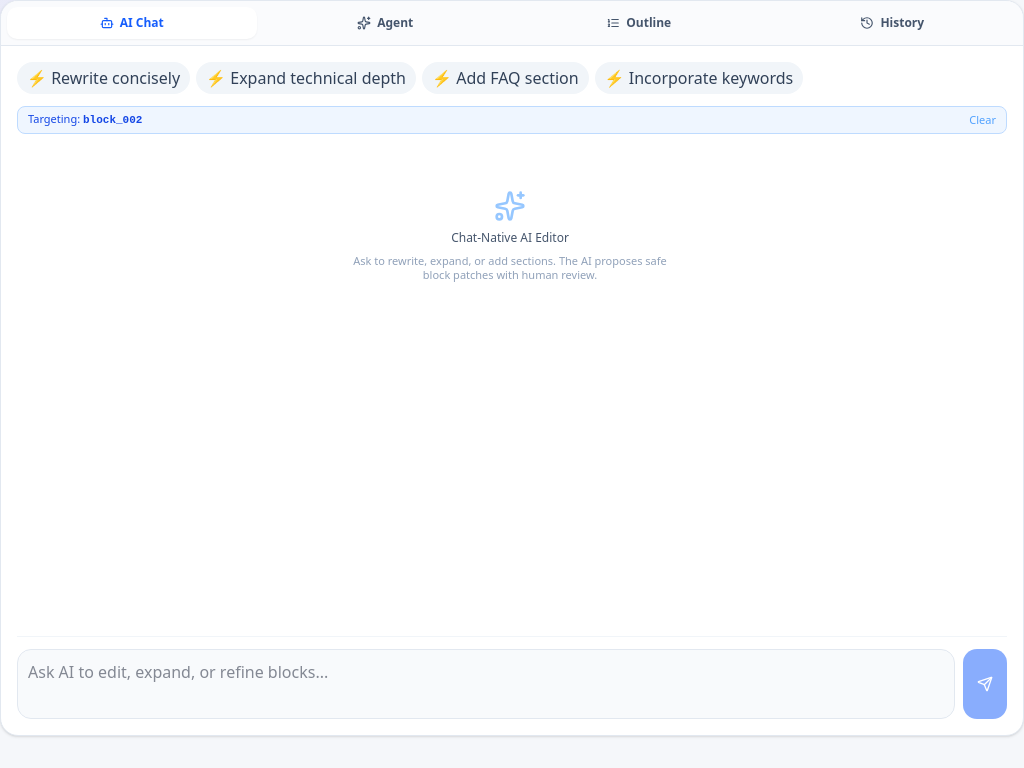
Test: Phase 5: Chat-Native AI Content Editor › renders EditorSidebar and allows submitting AI chat prompts
Expected: the button with test id "tab-chat" is shown, [7, 7, 256, 39]
// Type in chat input and send
Type "Please enhance this block" into the text box with test id "chat-input" at x=486, y=684, box [17, 649, 955, 719]
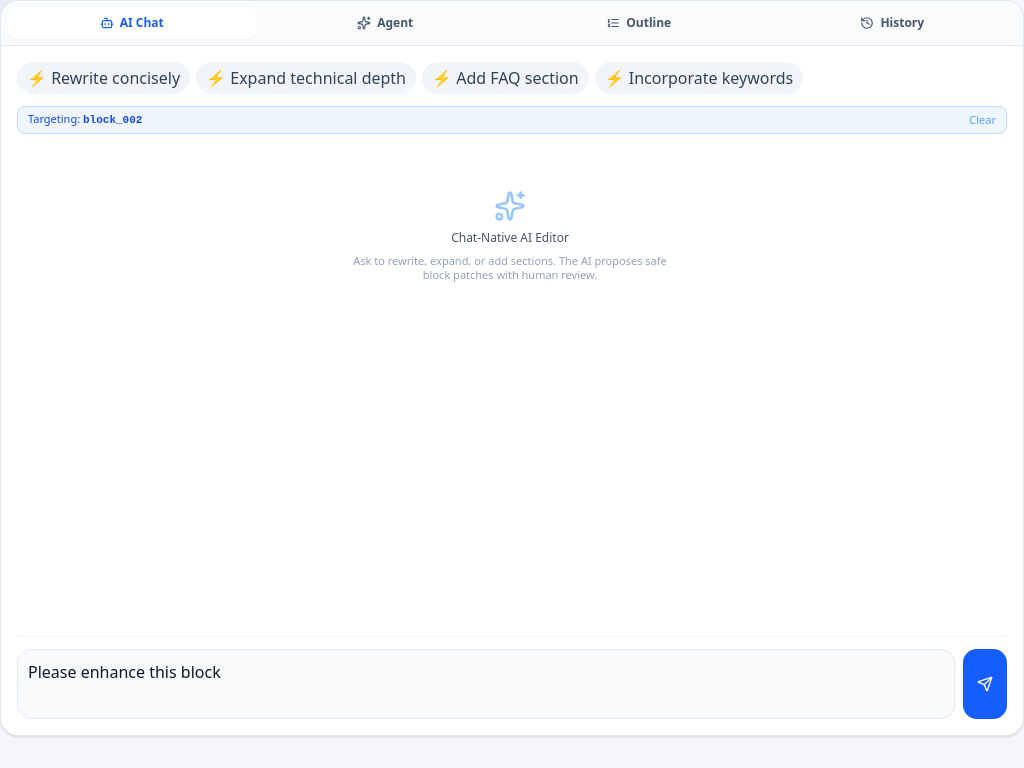
Click the button with test id "send-chat-btn" at x=985, y=684, box [963, 649, 1007, 719]
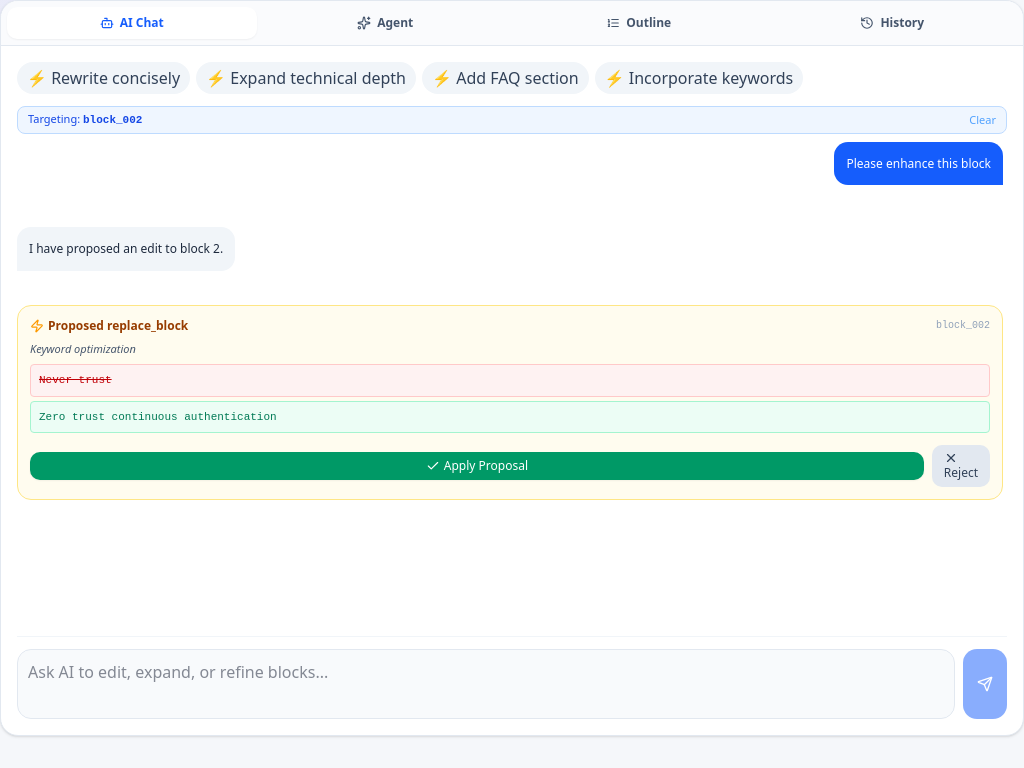
Now the element with test id "proposal-card" is shown, box [17, 304, 1003, 500]
// Apply proposal from sidebar card
Click the button with test id "apply-proposal-btn" at x=477, y=466, box [30, 452, 924, 480]
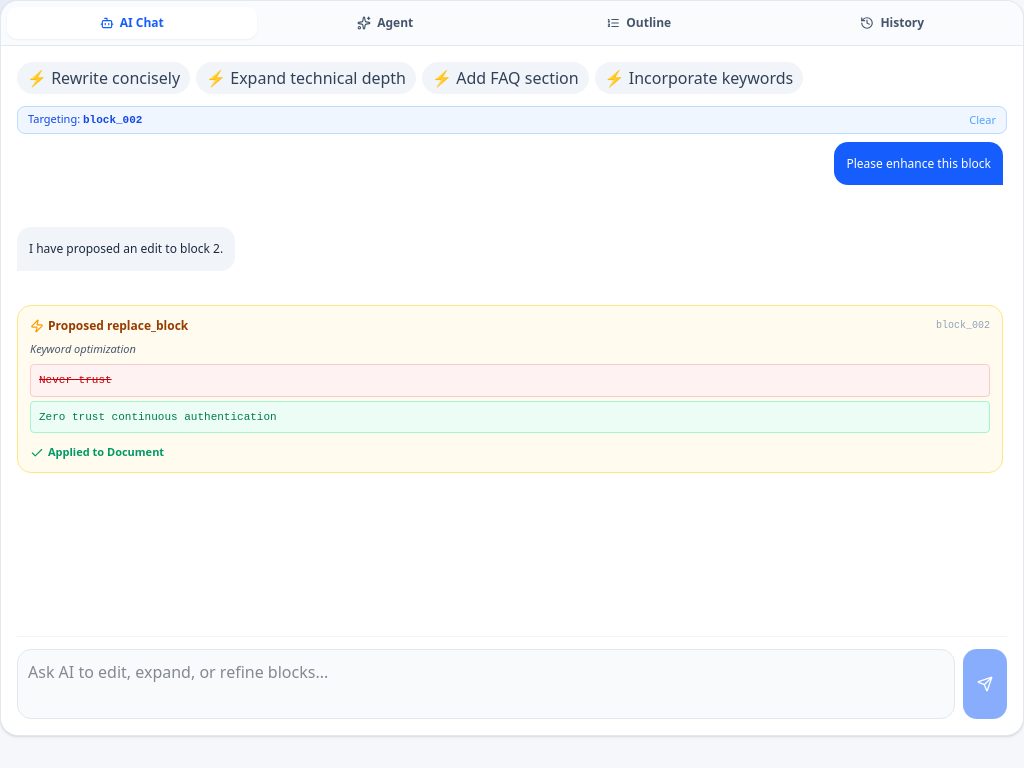
Now the text "Applied to Document" is shown, box [30, 444, 164, 460]
